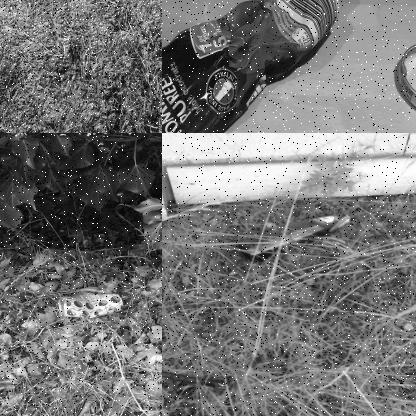glass: (234, 207, 363, 260)
metal: (400, 33, 415, 123)
plastic: (162, 0, 390, 132), (60, 292, 126, 320)
